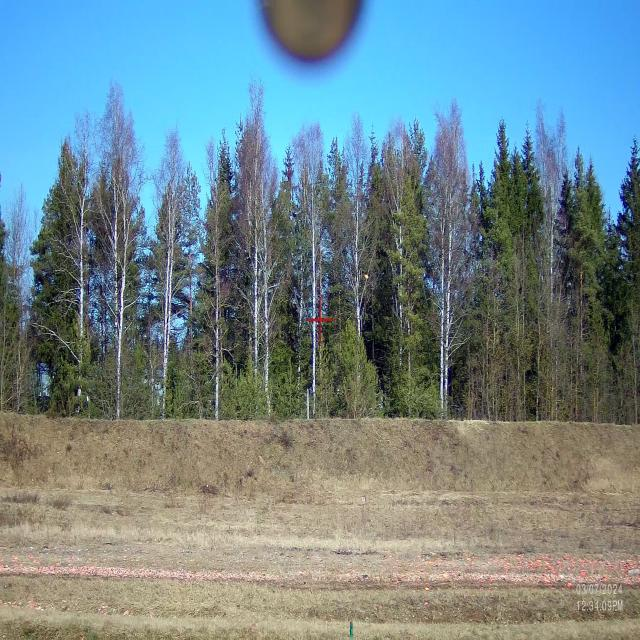entire: (363, 266, 368, 288)
